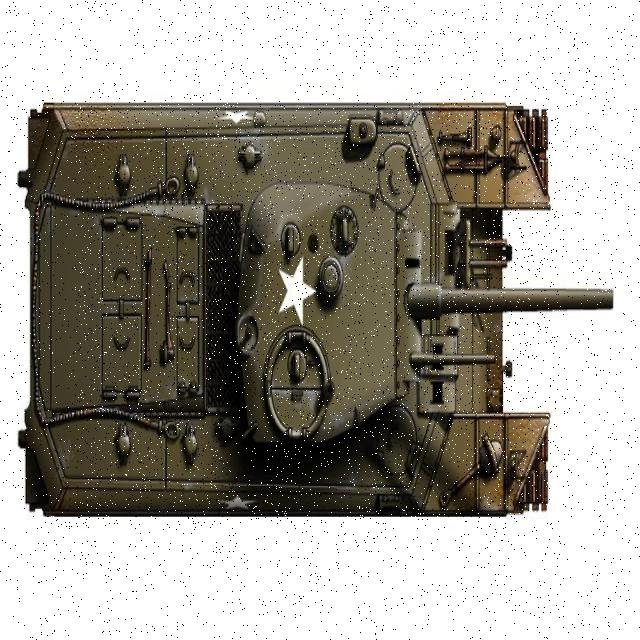MIL_MBT: (75, 108, 559, 527)
